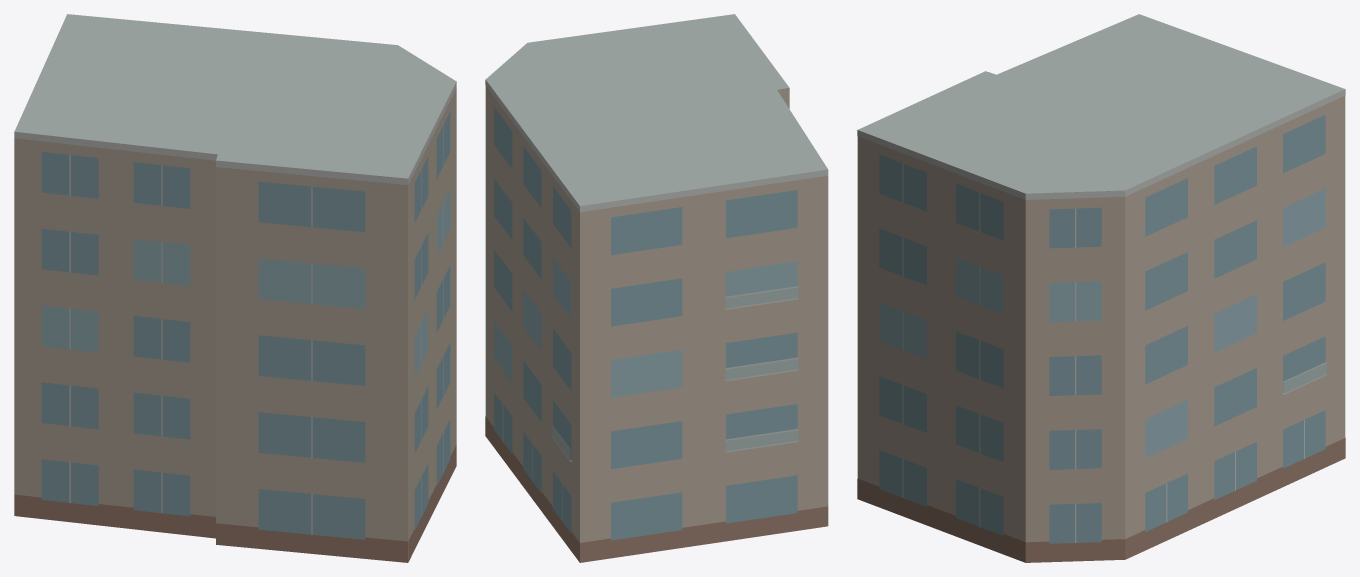
File: survey-upis-33000793.glb
The picture shows the model from 3 angles, left to right: view 1: azimuth 30°, elevation 25°; view 2: azimuth 150°, elevation 25°; view 3: azimuth 270°, elevation 25°; orthographic projection. The views are drawn at different scales.
Visible parts, largest first — view 1: survey-upis-33000793.tmp; view 2: survey-upis-33000793.tmp; view 3: survey-upis-33000793.tmp.
Part boxes in pixels (left/top/right/bottom): survey-upis-33000793.tmp: left=14, top=14, right=456, bottom=562; survey-upis-33000793.tmp: left=485, top=14, right=828, bottom=562; survey-upis-33000793.tmp: left=857, top=14, right=1345, bottom=562.
Bounding box in the file's own units: 15.04 × 14.4 × 17.25.
